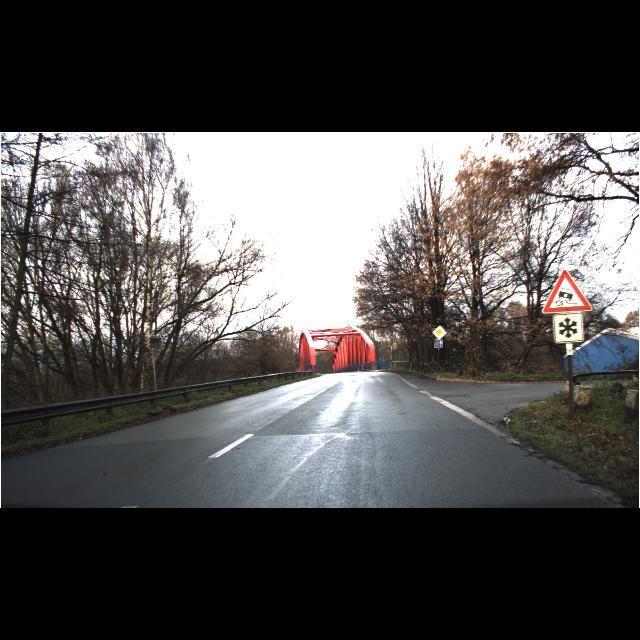danger: (542, 268, 592, 314)
other: (432, 326, 446, 340)
